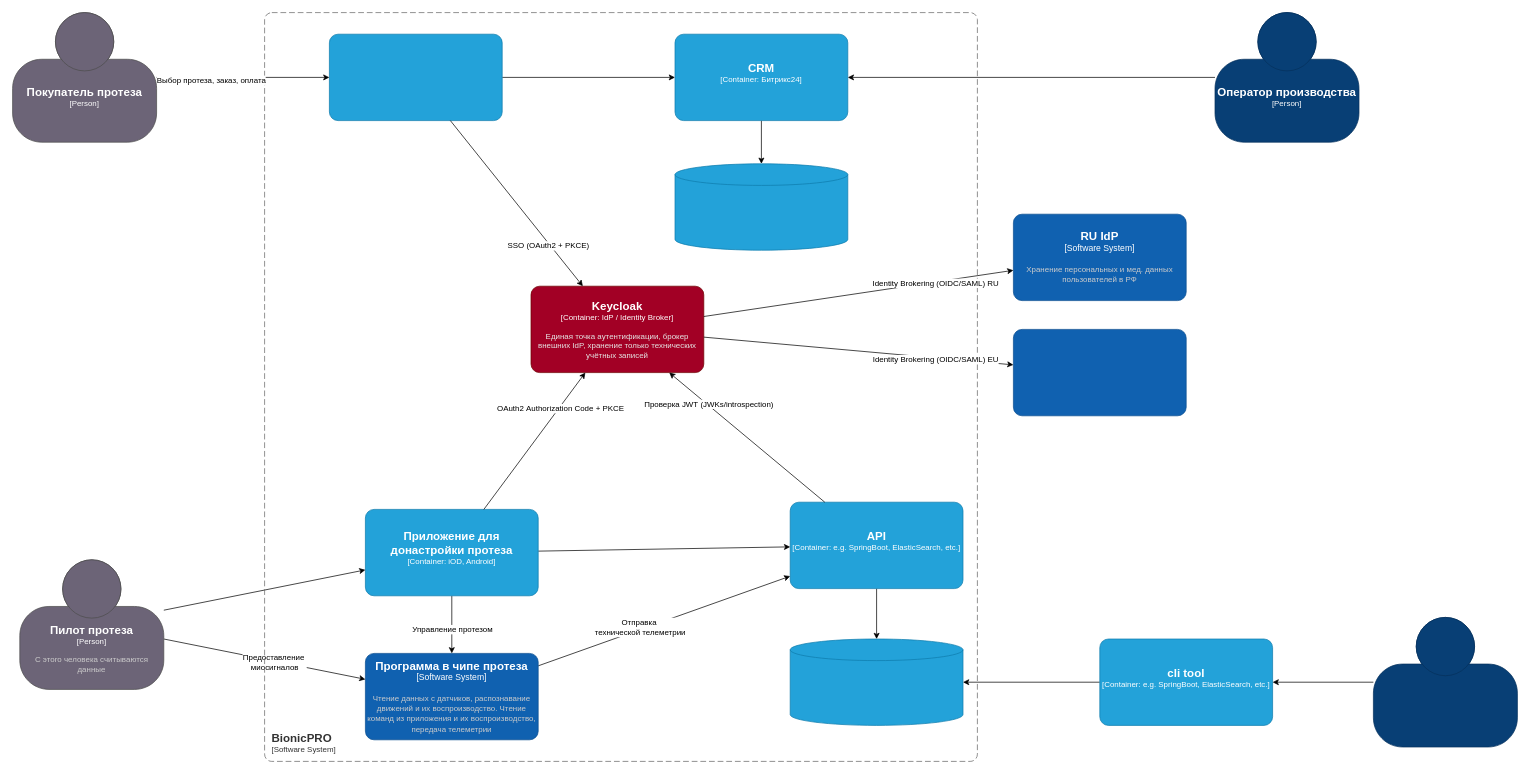
This 1530x774 diagram has some shape labels left out. Here are the shapes that lost their labels. From the top down, the centre of each, then its label:
At (415,77): "Интернет-магазин [Container: Битрикс24]".
At (761,206): "CRM DB [Container: e.g. Oracle Database 12]".
At (1099,372): "EU IdP [Software System] Хранение персональных и мед. данных пользователей в ЕС".
At (876,681): "База данных [Container: PostgreSQL]".
At (1445,682): "ML-инженер [Person]".
